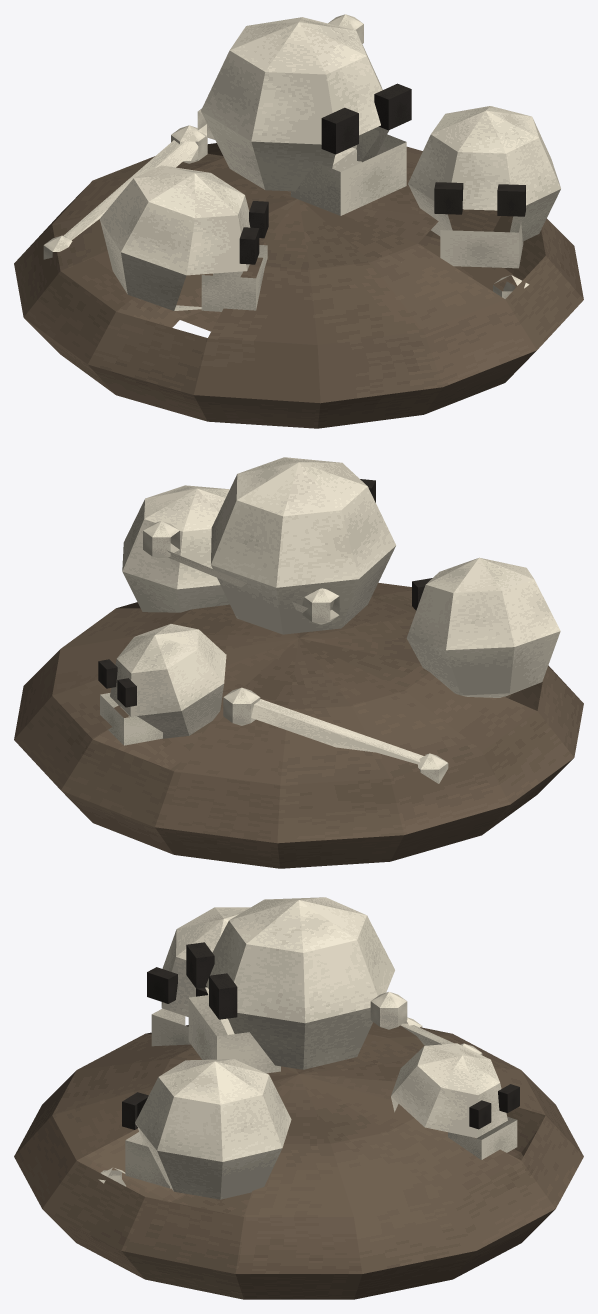
The model's file is prop_skull_pile.glb.
3 views of the same model, one above another, from view 1: azimuth 30°, elevation 25°; view 2: azimuth 150°, elevation 25°; view 3: azimuth 270°, elevation 25° (orthographic).
Visible parts, largest first — view 1: prop_skull_pile; view 2: prop_skull_pile; view 3: prop_skull_pile.
Part boxes in pixels (<box>): prop_skull_pile: <box>14,14,583,428</box>; prop_skull_pile: <box>14,457,583,868</box>; prop_skull_pile: <box>14,897,583,1299</box>.
Bounding box in the file's own units: 1.85 × 1.25 × 1.9.
Materials: 1 (1 with a texture image).
